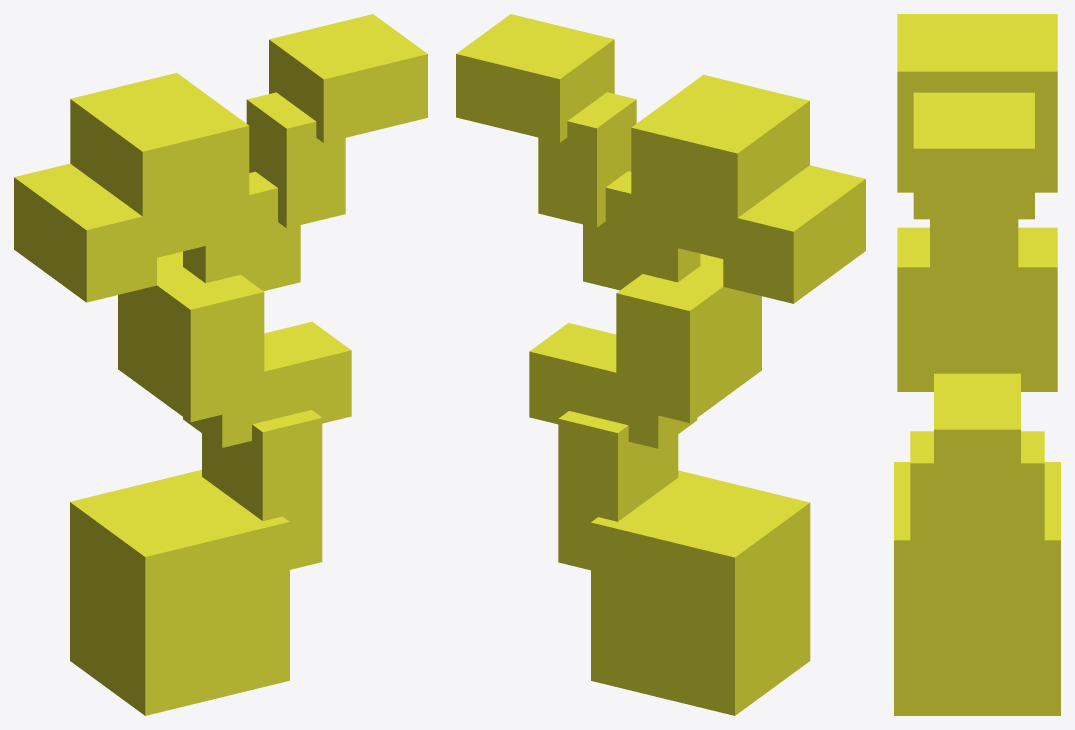
File: blockArtStatue.fbx
3 renders of one model, left to right at view 1: azimuth 30°, elevation 25°; view 2: azimuth 150°, elevation 25°; view 3: azimuth 270°, elevation 25°, orthographic. The views are drawn at different scales.
Visible parts, largest first — view 1: pCube68, pCube64, pCube65, pCube70, pCube69, pCube67, pCube66, pCube63, pCube62; view 2: pCube68, pCube64, pCube65, pCube70, pCube69, pCube67, pCube66, pCube63, pCube62; view 3: pCube68, pCube67, pCube65, pCube64, pCube70, pCube66, pCube63, pCube62.
Part boxes in pixels (x1,y1,x2,y2): pCube68: (70,469,289,715); pCube64: (70,73,249,259); pCube65: (118,251,264,422); pCube70: (269,14,427,142); pCube69: (14,163,156,302); pCube67: (202,410,322,569); pCube66: (183,321,351,447); pCube63: (246,92,345,228); pCube62: (183,171,300,291); pCube68: (591,470,810,715); pCube64: (631,75,809,262); pCube65: (616,253,761,422); pCube70: (456,14,614,142); pCube69: (723,165,865,303); pCube67: (558,411,678,570); pCube66: (529,323,697,448); pCube63: (538,92,636,227); pCube62: (583,171,700,290); pCube68: (894,462,1060,715); pCube67: (910,431,1044,622); pCube65: (897,227,1057,391); pCube64: (897,14,1057,192); pCube70: (913,92,1034,219); pCube66: (934,373,1020,502); pCube63: (930,219,1018,271); pCube62: (949,271,999,324).
Size of the model in its own units: 10.77 by 17.24 by 4.03.
